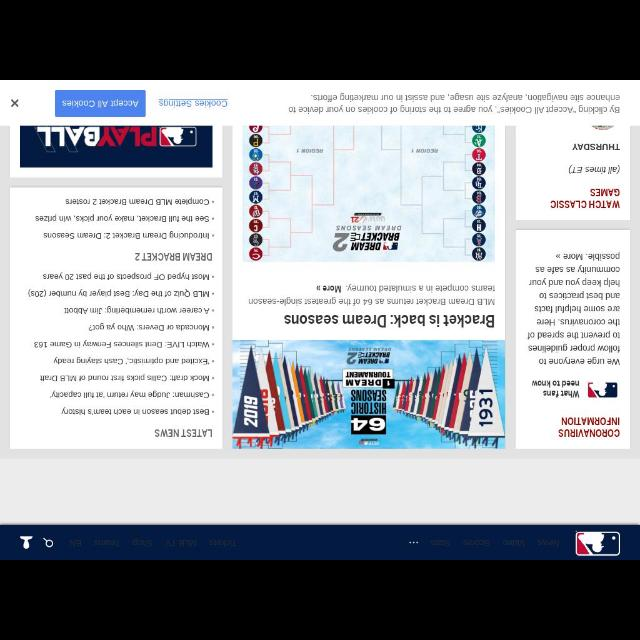icon: (21, 534, 34, 550), (41, 536, 54, 550), (10, 98, 20, 106), (409, 540, 419, 544)
image: (243, 126, 494, 262), (232, 340, 504, 448), (21, 127, 212, 167), (574, 530, 620, 556)
link: (158, 98, 226, 108)
text: (528, 251, 620, 365), (287, 90, 619, 114), (249, 284, 495, 306), (284, 310, 494, 328), (27, 288, 210, 298), (34, 339, 210, 349), (34, 213, 210, 223), (40, 373, 210, 383), (42, 271, 210, 281), (552, 188, 620, 210), (558, 415, 620, 437), (43, 231, 211, 239), (63, 197, 209, 206), (50, 392, 210, 400), (52, 357, 210, 365), (61, 408, 209, 416), (64, 306, 210, 314), (87, 323, 211, 331), (134, 250, 212, 262), (530, 379, 580, 397), (154, 426, 214, 439), (62, 98, 138, 108), (568, 164, 620, 176), (571, 142, 621, 152), (464, 538, 490, 548), (94, 538, 120, 548), (166, 538, 198, 546), (130, 538, 154, 548), (538, 538, 560, 548), (430, 538, 452, 548), (210, 538, 237, 546), (503, 540, 525, 546), (70, 538, 82, 546)
textbutton: (55, 91, 145, 117)
toolbar: (1, 524, 639, 560)
